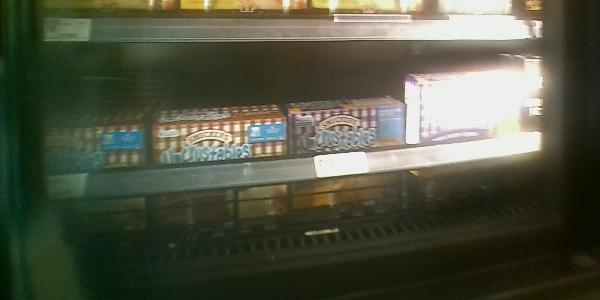icecream: (408, 65, 519, 143), (153, 114, 290, 163), (289, 103, 407, 153), (38, 121, 151, 172)
